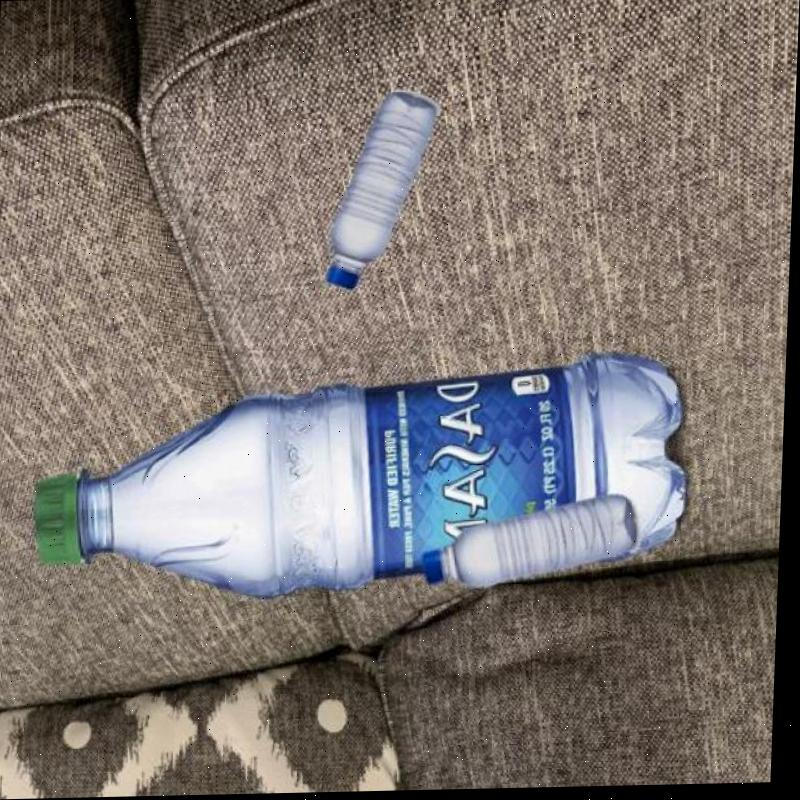botella: (32, 352, 695, 604), (326, 90, 440, 291), (423, 494, 646, 596)
